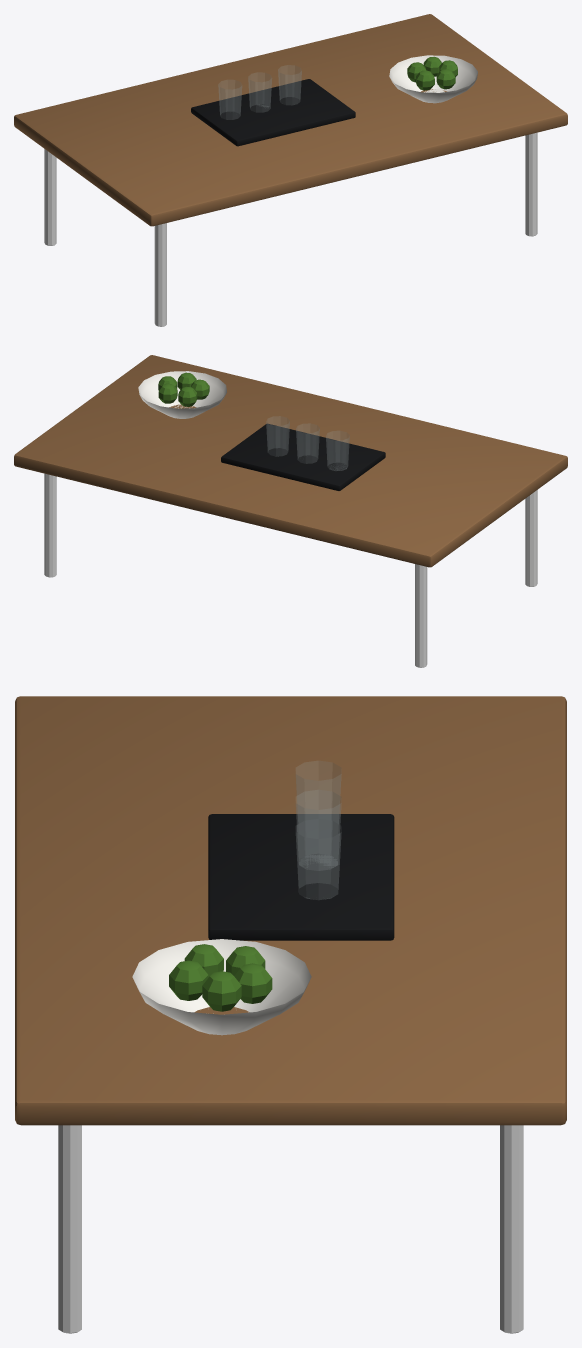
The model's file is marlin_table.glb.
3 renders of one model, top to bottom at view 1: azimuth 30°, elevation 25°; view 2: azimuth 150°, elevation 25°; view 3: azimuth 270°, elevation 25°, orthographic. The views are drawn at different scales.
Parts seen in each view (by area): view 1: marlin_table; view 2: marlin_table; view 3: marlin_table.
Boxes of the visible parts, x1=… form: marlin_table: x1=14, y1=14, x2=567, y2=326; marlin_table: x1=14, y1=355, x2=567, y2=667; marlin_table: x1=15, y1=696, x2=566, y2=1333.
Size of the model in its own units: 1.4 by 0.52 by 0.8.
